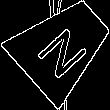N_NE: (31, 15, 94, 78)
